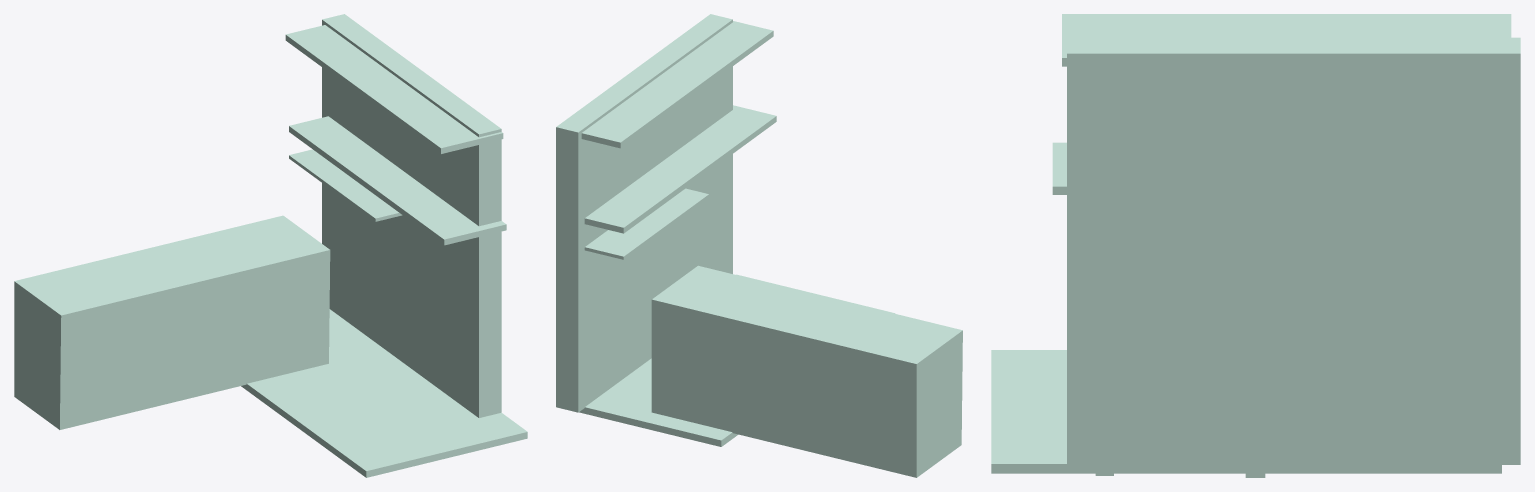
The picture shows the model from 3 angles, left to right: view 1: azimuth 30°, elevation 25°; view 2: azimuth 150°, elevation 25°; view 3: azimuth 270°, elevation 25°; orthographic projection. The views are drawn at different scales.
Parts seen in each view (by area): view 1: Renderer Node; view 2: Renderer Node; view 3: Renderer Node.
Boxes of the visible parts, x1,y1,x2,y2 form: Renderer Node: (14,14,527,477); Renderer Node: (556,14,962,477); Renderer Node: (991,14,1520,477).
Bounding box in the file's own units: 0.9609 × 0.7734 × 0.875.
